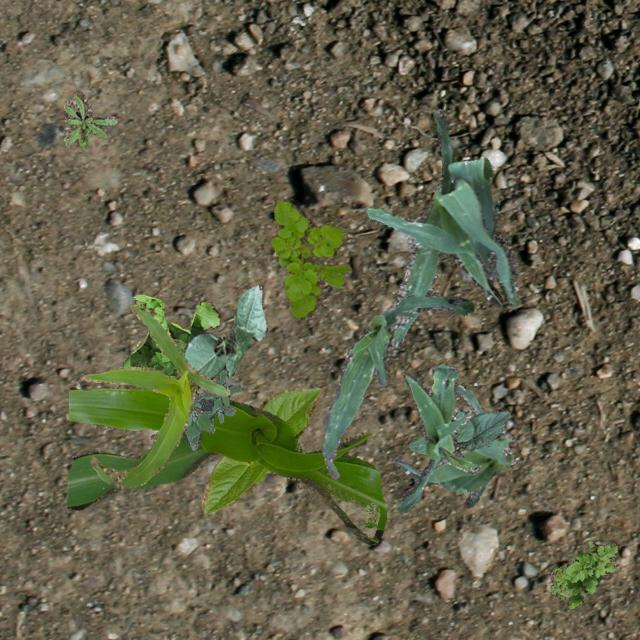crop: (66, 384, 386, 544), (366, 109, 516, 348), (321, 294, 474, 478), (82, 304, 228, 488), (200, 386, 324, 512), (392, 384, 514, 506), (396, 364, 481, 512), (182, 284, 266, 378), (408, 408, 510, 454)
weed: (270, 200, 350, 318), (120, 294, 218, 376), (150, 368, 240, 449), (550, 540, 616, 608), (61, 89, 116, 150)
